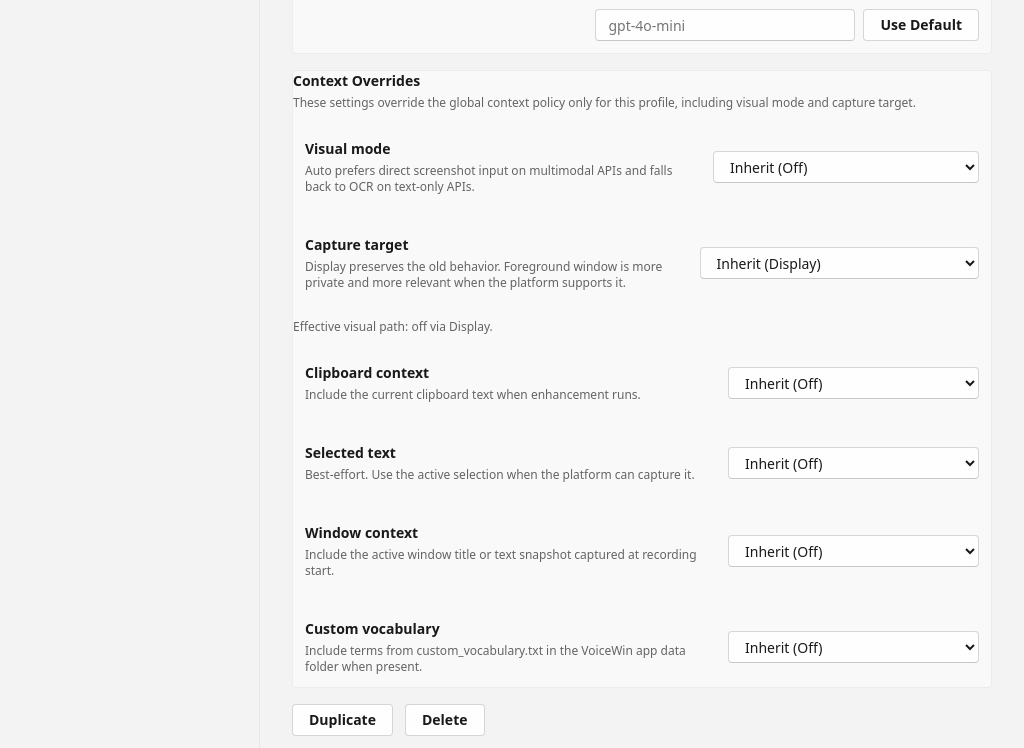
it: ProfilesPage refresh behavior › duplicates the selected profile with a new name and id
(page scrolled)
Step 1. Click the button "Duplicate" → [342, 720], box [292,704,393,736]
(page scrolled)
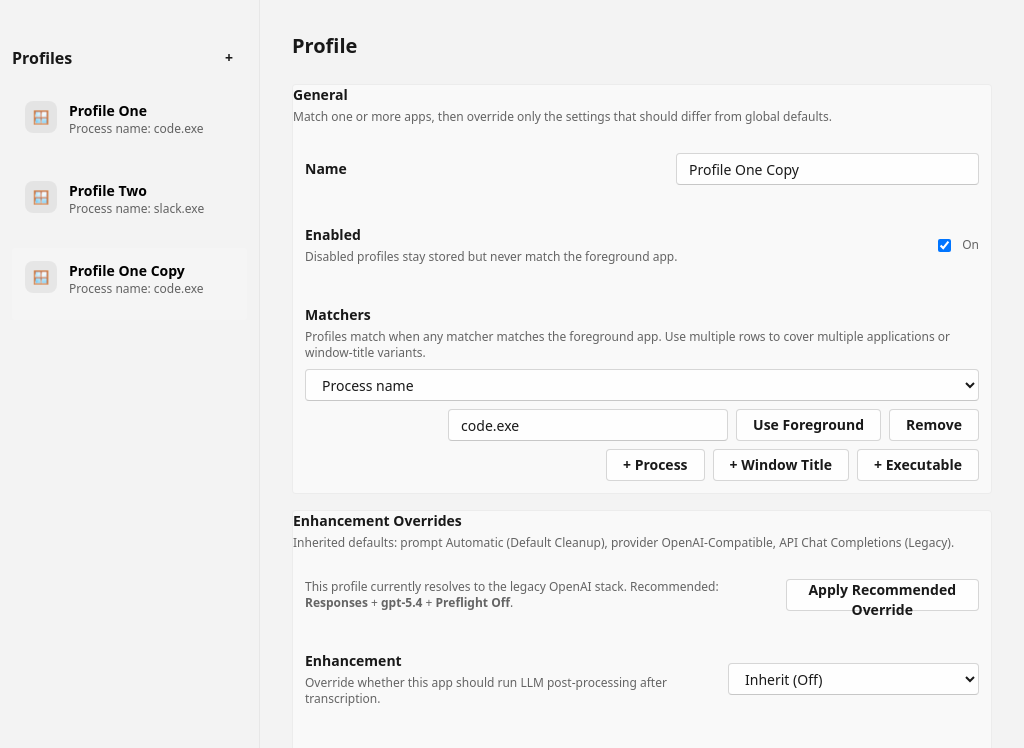
Now the field showing "Profile One Copy" is shown, box [676,153,979,185]
Now the text "Profile One Copy" is shown, box [69,261,185,280]
